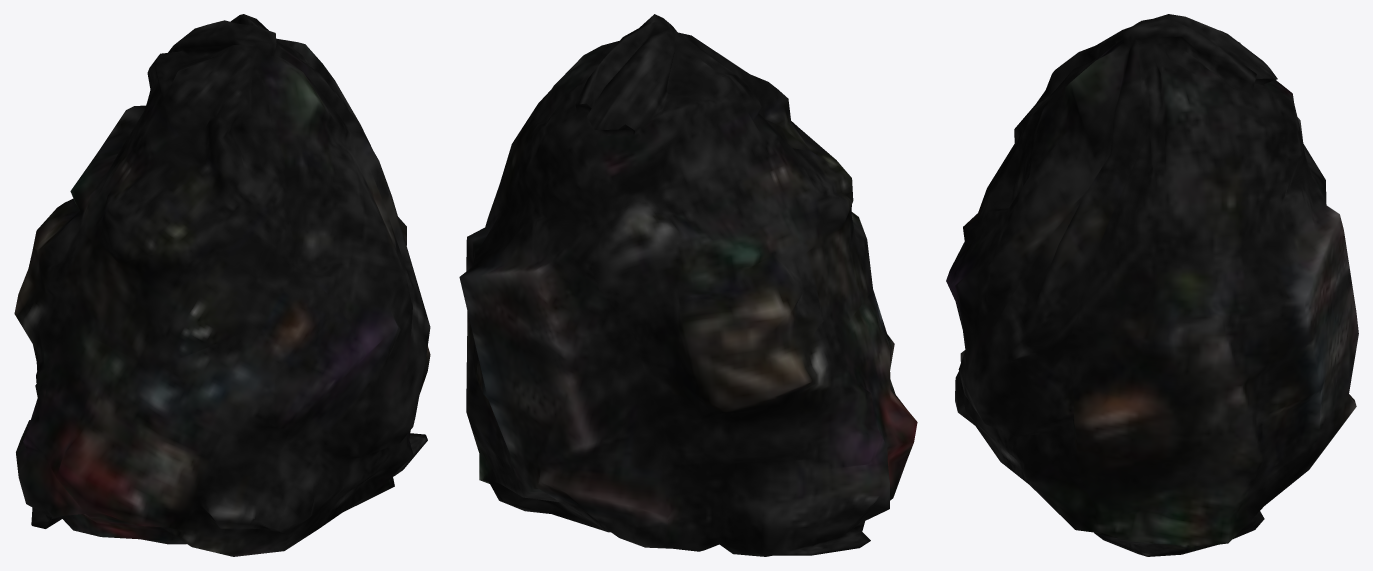
File: trashbag.glb
3 views of the same model, side by side, from view 1: azimuth 30°, elevation 25°; view 2: azimuth 150°, elevation 25°; view 3: azimuth 270°, elevation 25° (orthographic). The views are drawn at different scales.
Visible parts, largest first — view 1: trashbag; view 2: trashbag; view 3: trashbag.
Part boxes in pixels (box(x1,y1,x2,y2)): trashbag: box(14, 14, 430, 556); trashbag: box(459, 14, 917, 556); trashbag: box(946, 14, 1358, 556).
Size of the model in its own units: 0.5236 by 0.5731 by 0.4629.
1 material, 1 textured.
